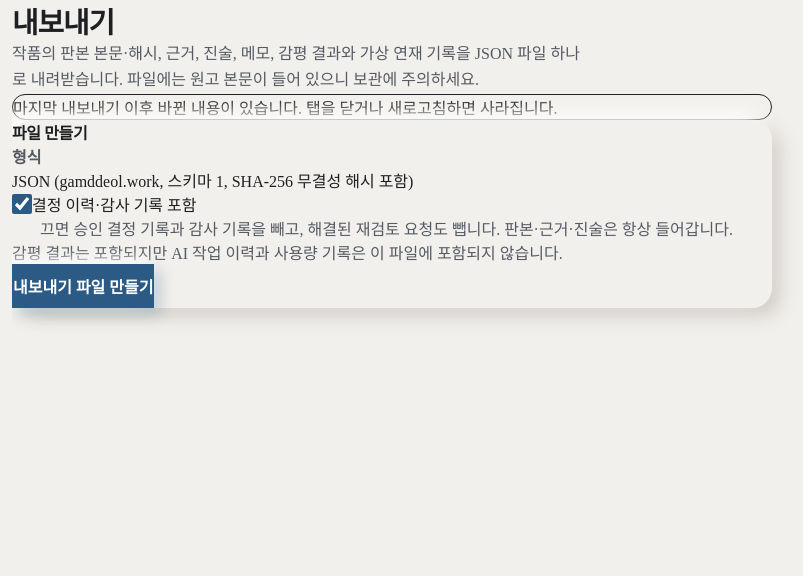
Test case: 내보내기 저장 확인 › 현재 버전에서 다시 열 수 없는 크기의 파일은 경고하고 저장 확인을 막는다
Later steps or results of the test are not shown.
What coordinates should you click on to do the following:
click the button "내보내기 파일 만들기"
I would click on:
 (83, 286)
Its box is [12, 264, 154, 308].
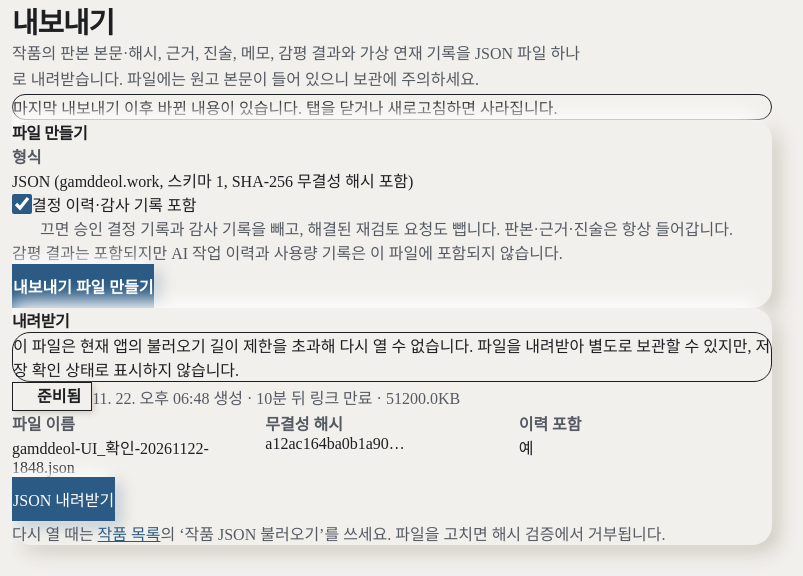
Check: the link "JSON 내려받기" is shown, box [12, 477, 115, 521]
Check: the text "현재 앱의 불러오기 길이 제한을 초과해 다시 열 수 없습니다" is shown, box [13, 338, 770, 379]
